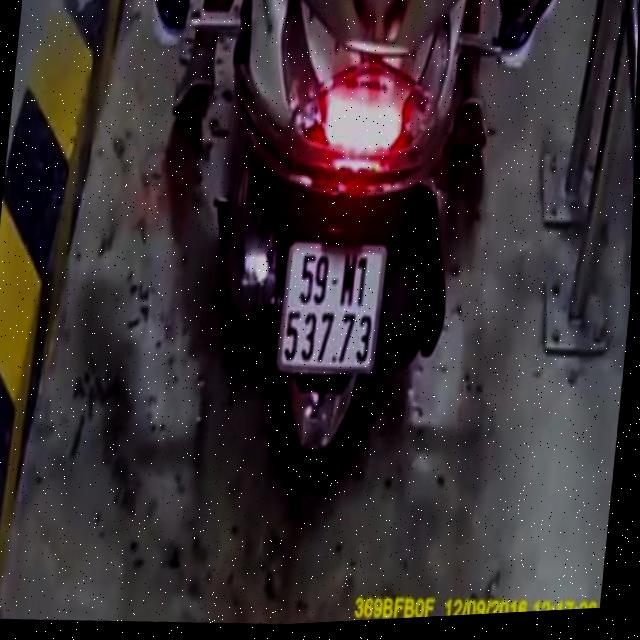motorcycle: (180, 0, 507, 496)
plate: (268, 229, 392, 383)
